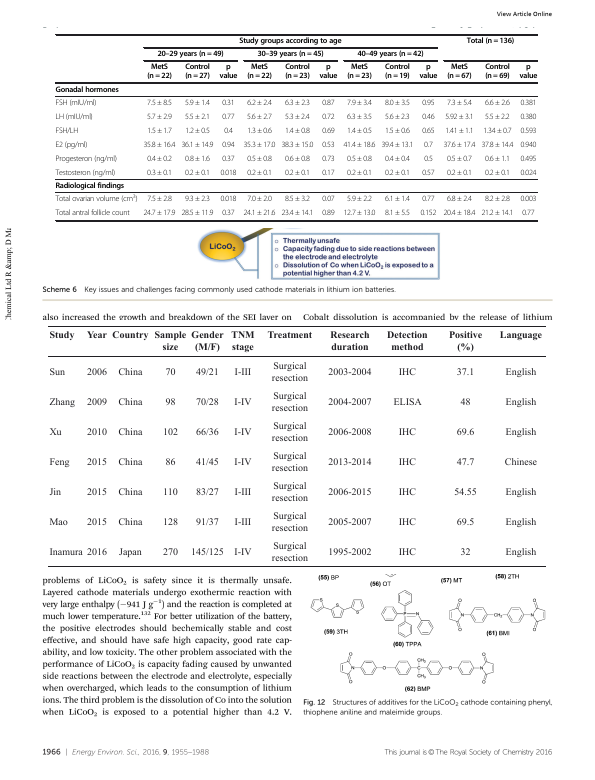borderless: (47, 325, 546, 566), (54, 33, 537, 220)
cell: (386, 331, 428, 354), (329, 331, 370, 354), (238, 37, 342, 46), (270, 391, 309, 415), (55, 193, 138, 204), (270, 362, 309, 385), (270, 421, 309, 444), (270, 451, 309, 474), (270, 481, 309, 504), (270, 511, 309, 534), (270, 541, 309, 564), (448, 331, 483, 354), (153, 331, 187, 354), (190, 331, 224, 354), (256, 50, 325, 60), (55, 209, 131, 218), (156, 50, 224, 60), (356, 50, 424, 60), (55, 85, 120, 95), (55, 154, 118, 164), (55, 182, 125, 191), (55, 168, 116, 178), (230, 331, 255, 354), (327, 397, 372, 409), (266, 331, 313, 342), (146, 63, 173, 82), (184, 63, 211, 82), (246, 63, 273, 82), (284, 63, 311, 82), (346, 63, 373, 82), (384, 63, 411, 82), (446, 63, 473, 82), (484, 63, 511, 82), (498, 331, 543, 342), (327, 368, 372, 379), (327, 427, 372, 438), (327, 457, 372, 468), (327, 487, 372, 498), (327, 517, 372, 528), (327, 547, 372, 558), (466, 37, 515, 46), (55, 98, 97, 108), (111, 331, 149, 342), (504, 397, 537, 409), (55, 112, 94, 122), (503, 457, 538, 468), (48, 547, 83, 558), (318, 63, 338, 82), (418, 63, 438, 82), (518, 63, 538, 82), (190, 547, 224, 558), (504, 368, 537, 379), (504, 427, 537, 438), (504, 487, 537, 498), (504, 517, 537, 528), (504, 547, 537, 558), (219, 63, 238, 82), (392, 397, 422, 409), (142, 140, 176, 150), (180, 140, 214, 150), (242, 140, 276, 150), (280, 140, 314, 150), (342, 140, 376, 150), (380, 140, 414, 150), (442, 140, 476, 150), (480, 140, 514, 150), (48, 397, 76, 409), (55, 140, 88, 150), (117, 397, 143, 409), (444, 126, 475, 136), (482, 126, 513, 136), (142, 209, 176, 218), (180, 209, 214, 218), (242, 209, 276, 218), (280, 209, 314, 218), (342, 209, 376, 218), (442, 209, 476, 218), (480, 209, 514, 218), (444, 112, 474, 122), (48, 331, 75, 342), (195, 397, 219, 409), (117, 368, 143, 379), (117, 427, 143, 438), (117, 457, 143, 468), (117, 487, 143, 498), (117, 517, 143, 528), (146, 98, 173, 108), (184, 98, 211, 108), (246, 98, 273, 108), (284, 98, 311, 108), (346, 98, 373, 108), (384, 98, 411, 108), (446, 98, 473, 108), (484, 98, 511, 108), (146, 112, 173, 122), (184, 112, 211, 122), (246, 112, 273, 122), (284, 112, 311, 122), (346, 112, 373, 122), (384, 112, 411, 122), (484, 112, 511, 122), (146, 126, 173, 136), (184, 126, 211, 136), (246, 126, 273, 136), (284, 126, 311, 136), (346, 126, 373, 136), (384, 126, 411, 136), (146, 154, 173, 164), (184, 154, 211, 164), (246, 154, 273, 164), (284, 154, 311, 164), (346, 154, 373, 164), (384, 154, 411, 164), (446, 154, 473, 164), (484, 154, 511, 164), (146, 168, 173, 178), (184, 168, 211, 178), (246, 168, 273, 178), (284, 168, 311, 178), (346, 168, 373, 178), (384, 168, 411, 178), (446, 168, 473, 178), (484, 168, 511, 178), (195, 368, 219, 379), (86, 397, 108, 409), (195, 427, 219, 438), (195, 457, 219, 468), (195, 487, 219, 498), (453, 487, 477, 498), (195, 517, 219, 528), (118, 547, 142, 558), (146, 195, 173, 204), (184, 195, 211, 204), (246, 195, 273, 204), (284, 195, 311, 204), (346, 195, 373, 204), (384, 195, 411, 204), (446, 195, 473, 204), (484, 195, 511, 204), (384, 209, 411, 218), (86, 331, 108, 342), (85, 368, 107, 379), (85, 427, 107, 438), (48, 457, 70, 468), (86, 457, 108, 468), (86, 487, 108, 498), (86, 517, 108, 528), (86, 547, 108, 558), (55, 126, 79, 136), (233, 397, 252, 409), (397, 368, 417, 379), (455, 368, 475, 379), (397, 427, 417, 438), (455, 427, 475, 438), (397, 457, 417, 468), (455, 457, 475, 468), (397, 487, 417, 498), (48, 517, 68, 528), (397, 517, 417, 528), (455, 517, 475, 528), (397, 547, 417, 558), (233, 368, 252, 379), (233, 427, 252, 438), (233, 457, 252, 468), (233, 487, 252, 498), (233, 517, 252, 528), (233, 547, 252, 558), (48, 368, 66, 379), (162, 427, 179, 438), (162, 517, 179, 528), (162, 547, 179, 558), (519, 98, 537, 108), (519, 112, 537, 122), (519, 126, 537, 136), (519, 140, 537, 150), (519, 154, 537, 164), (219, 168, 237, 178), (519, 168, 537, 178), (162, 487, 178, 498), (219, 195, 237, 204), (519, 195, 537, 204), (419, 209, 437, 218), (48, 427, 62, 438), (48, 487, 62, 498), (221, 98, 236, 108), (321, 98, 336, 108), (321, 126, 336, 136), (421, 126, 436, 136), (321, 140, 336, 150), (221, 154, 236, 164), (321, 154, 336, 164), (321, 168, 336, 178), (164, 397, 176, 409), (459, 397, 471, 409), (421, 98, 435, 108), (221, 112, 235, 122), (321, 112, 335, 122), (421, 112, 435, 122), (221, 140, 235, 150), (421, 168, 435, 178), (321, 195, 336, 204), (321, 209, 336, 218), (164, 368, 176, 379), (164, 457, 176, 468), (459, 547, 471, 558), (421, 195, 435, 204), (221, 209, 235, 218), (521, 209, 535, 218), (223, 126, 234, 136), (423, 140, 434, 150), (423, 154, 434, 164)
